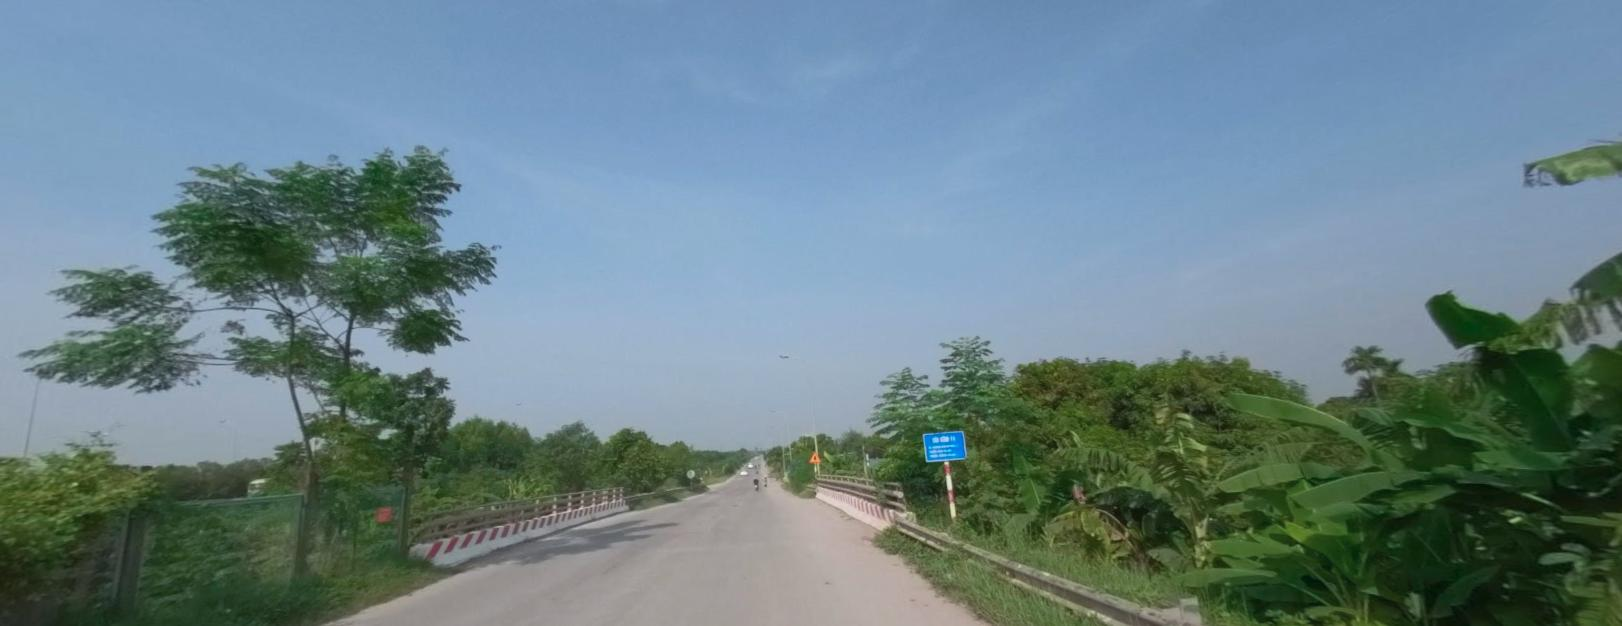Nguy hiem: (807, 450, 820, 463)
